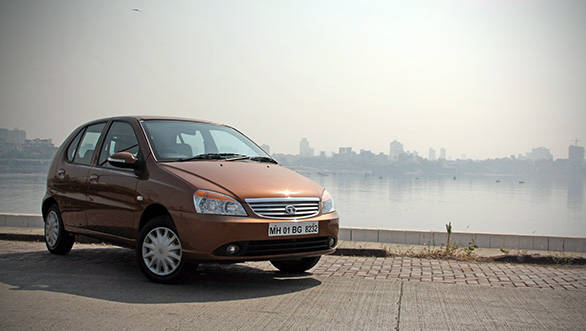car: (35, 108, 343, 301)
